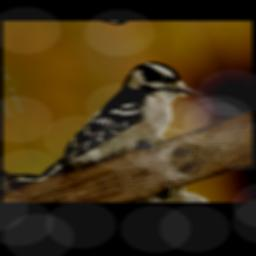Woodpecker: (11, 50, 213, 186)
